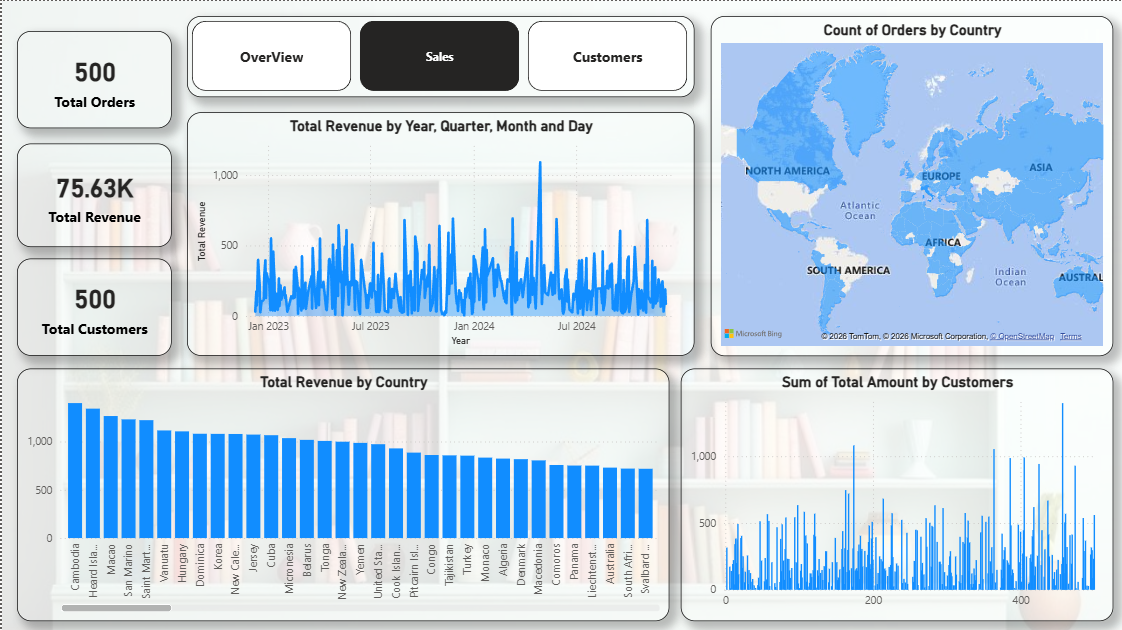

Layout of this report page (visuals, bound fields, positions):
{"tool":"powerbi","page":{"name":"Sales","canvas":[1280,720],"ordinal":1},"visuals":[{"type":"card","fields":{"Values":["Orders.Total Orders"]},"box":[17.1,34.3,177.1,111.4],"z":0},{"type":"card","fields":{"Values":["Customers.Total Customers"]},"box":[17.1,294.3,177.1,111.4],"z":2000},{"type":"card","fields":{"Values":["Orders.Total Revenue"]},"box":[17.1,162.9,177.1,118.6],"z":3000},{"type":"clusteredColumnChart","fields":{"Category":["Customers.Country"],"Y":["Orders.Total Revenue"]},"box":[17.1,420,745.7,288.6],"z":4000},{"type":"areaChart","fields":{"Y":["Orders.Total Revenue"],"Category":["Orders.Order_Date.Variation.Date Hierarchy.Year","Orders.Order_Date.Variation.Date Hierarchy.Quarter","Orders.Order_Date.Variation.Date Hierarchy.Month","Orders.Order_Date.Variation.Date Hierarchy.Day"]},"box":[211.4,127.1,580,278.6],"z":5000},{"type":"columnChart","fields":{"Category":["Customers.Customer_ID"],"Y":["Sum(Orders.Total_Amount)"]},"box":[775.7,420,494.3,288.6],"z":6000},{"type":"filledMap","fields":{"Category":["Customers.Country"]},"box":[810,17.1,460,388.6],"z":7000},{"type":"pageNavigator","box":[211.4,17.1,580,92.9],"z":7001}]}

Visuals, with their boxes in screenshot pixels (x1, y1, x2, y2), scaled from the page's 1280x720 canvas onto the 1122x630 screenshot:
card - Orders.Total Orders: bbox=(15, 30, 170, 127)
card - Customers.Total Customers: bbox=(15, 258, 170, 355)
card - Orders.Total Revenue: bbox=(15, 143, 170, 246)
clusteredColumnChart - Customers.Country x Orders.Total Revenue: bbox=(15, 368, 669, 620)
areaChart - Orders.Total Revenue x Orders.Order_Date.Variation.Date Hierarchy.Year: bbox=(185, 111, 694, 355)
columnChart - Customers.Customer_ID x Sum(Orders.Total_Amount): bbox=(680, 368, 1113, 620)
filledMap - Customers.Country: bbox=(710, 15, 1113, 355)
pageNavigator: bbox=(185, 15, 694, 96)
